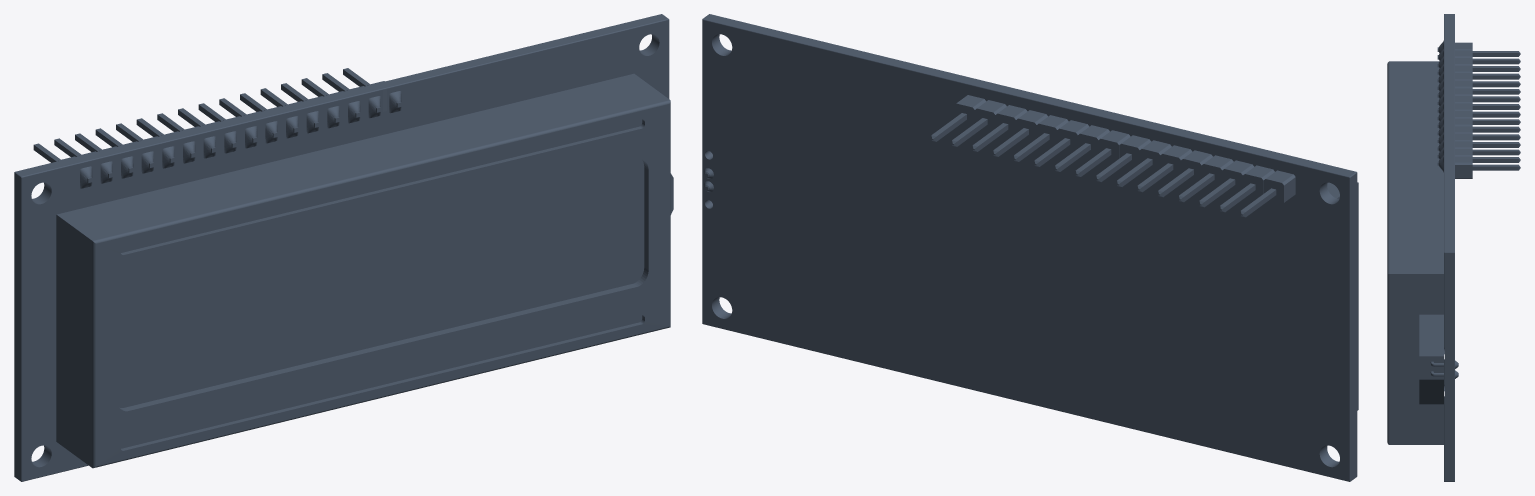
Rendered from lcd_1602.glb.
The picture shows the model from 3 angles, left to right: view 1: azimuth 30°, elevation 25°; view 2: azimuth 150°, elevation 25°; view 3: azimuth 270°, elevation 25°; orthographic projection. The views are drawn at different scales.
Visible parts, largest first — view 1: geometry_0; view 2: geometry_0; view 3: geometry_0.
Boxes of the visible parts, box(x1,y1,x2,y2) form: geometry_0: box(14, 14, 673, 481); geometry_0: box(702, 14, 1358, 481); geometry_0: box(1387, 14, 1520, 481).
Bounding box in the file's own units: 0.08 × 0.036 × 0.0189.
